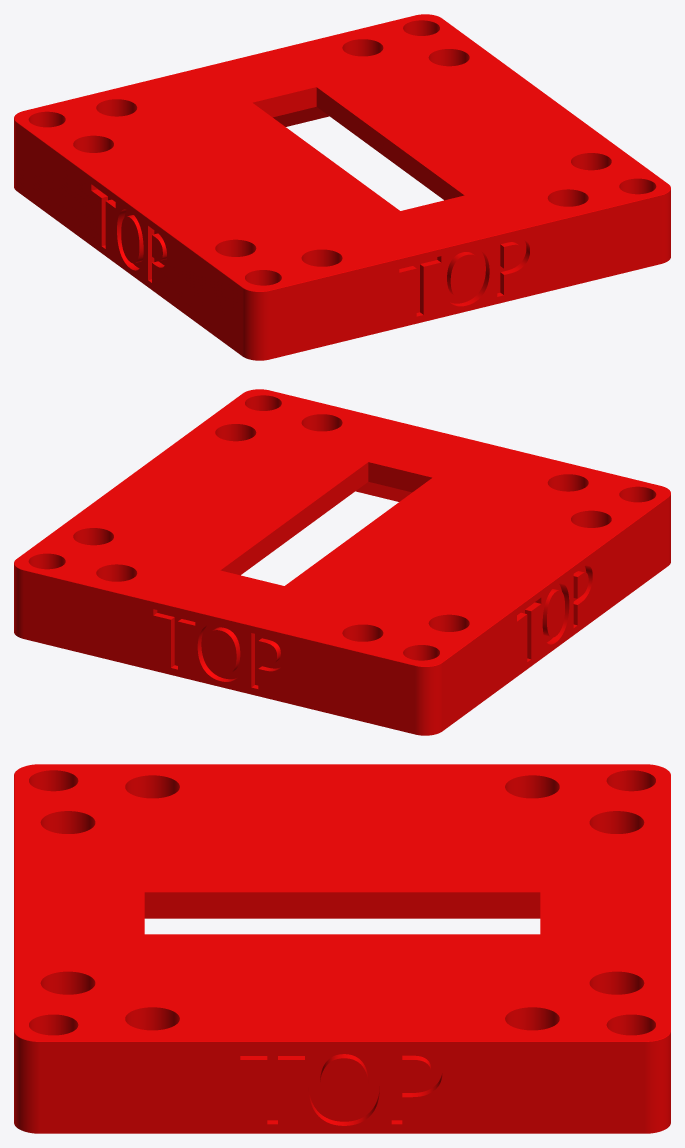
The model's file is Cube 1x1 V5_Cube 1x1 Top V5 Closed Slotted.obj.
3 views of the same model, one above another, from view 1: azimuth 30°, elevation 25°; view 2: azimuth 150°, elevation 25°; view 3: azimuth 270°, elevation 25° (orthographic). The views are drawn at different scales.
Parts seen in each view (by area): view 1: Solid1:4; view 2: Solid1:4; view 3: Solid1:4.
Part boxes in pixels (x1,y1,x2,y2): Solid1:4: [14, 14, 670, 360]; Solid1:4: [14, 389, 670, 735]; Solid1:4: [14, 764, 670, 1133].
Bounding box in the file's own units: 49.8 × 7.7 × 49.8.
